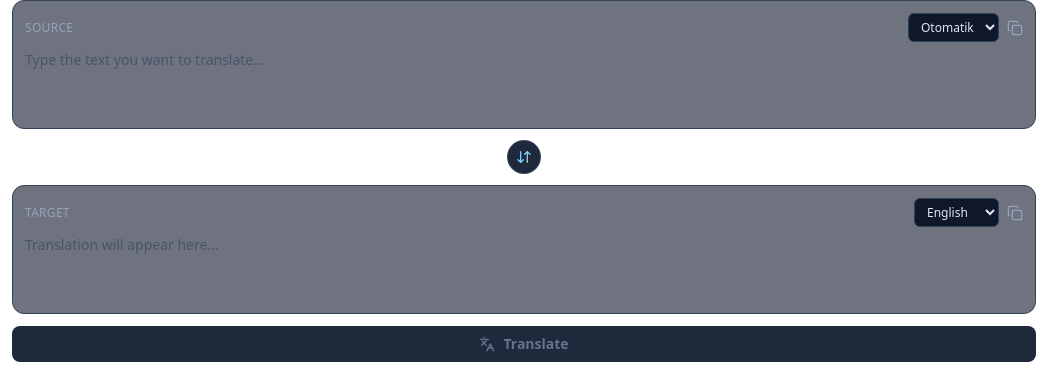
Test: TranslationCard real-API flow › swap moves text between panes and avoids using auto as a target
The width and height of the screenshot is (1048, 379).
Type "merhaba" into the text box with test id "source-pane".
click(524, 80); type("merhaba")  # box [25,50,1023,110]
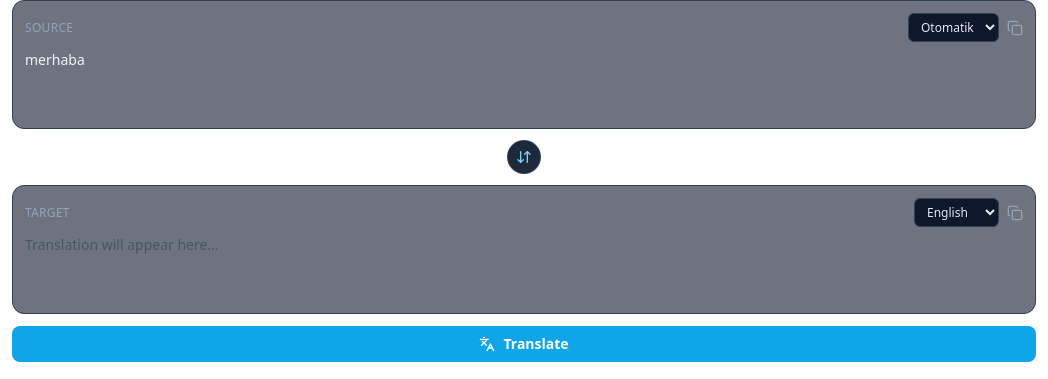
Click the button with test id "swap-button".
click(524, 157)  # box [508,141,540,173]
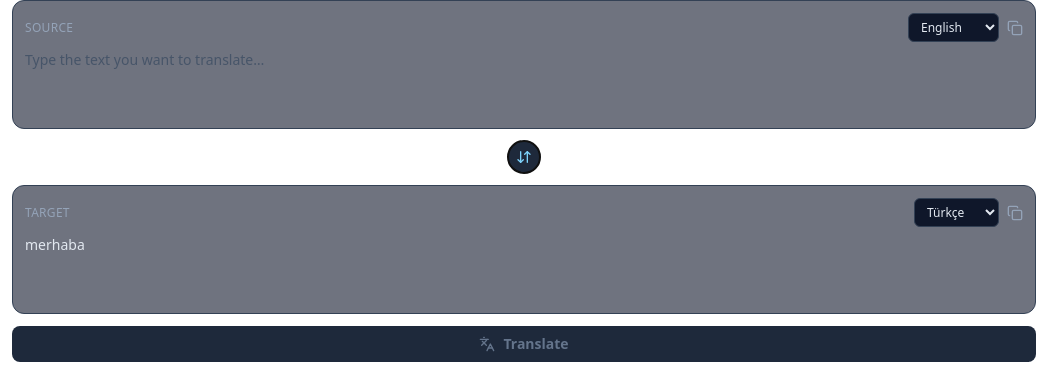
Result: the dropdown with test id "lang-source" shows "English" at [908,13,999,42]
